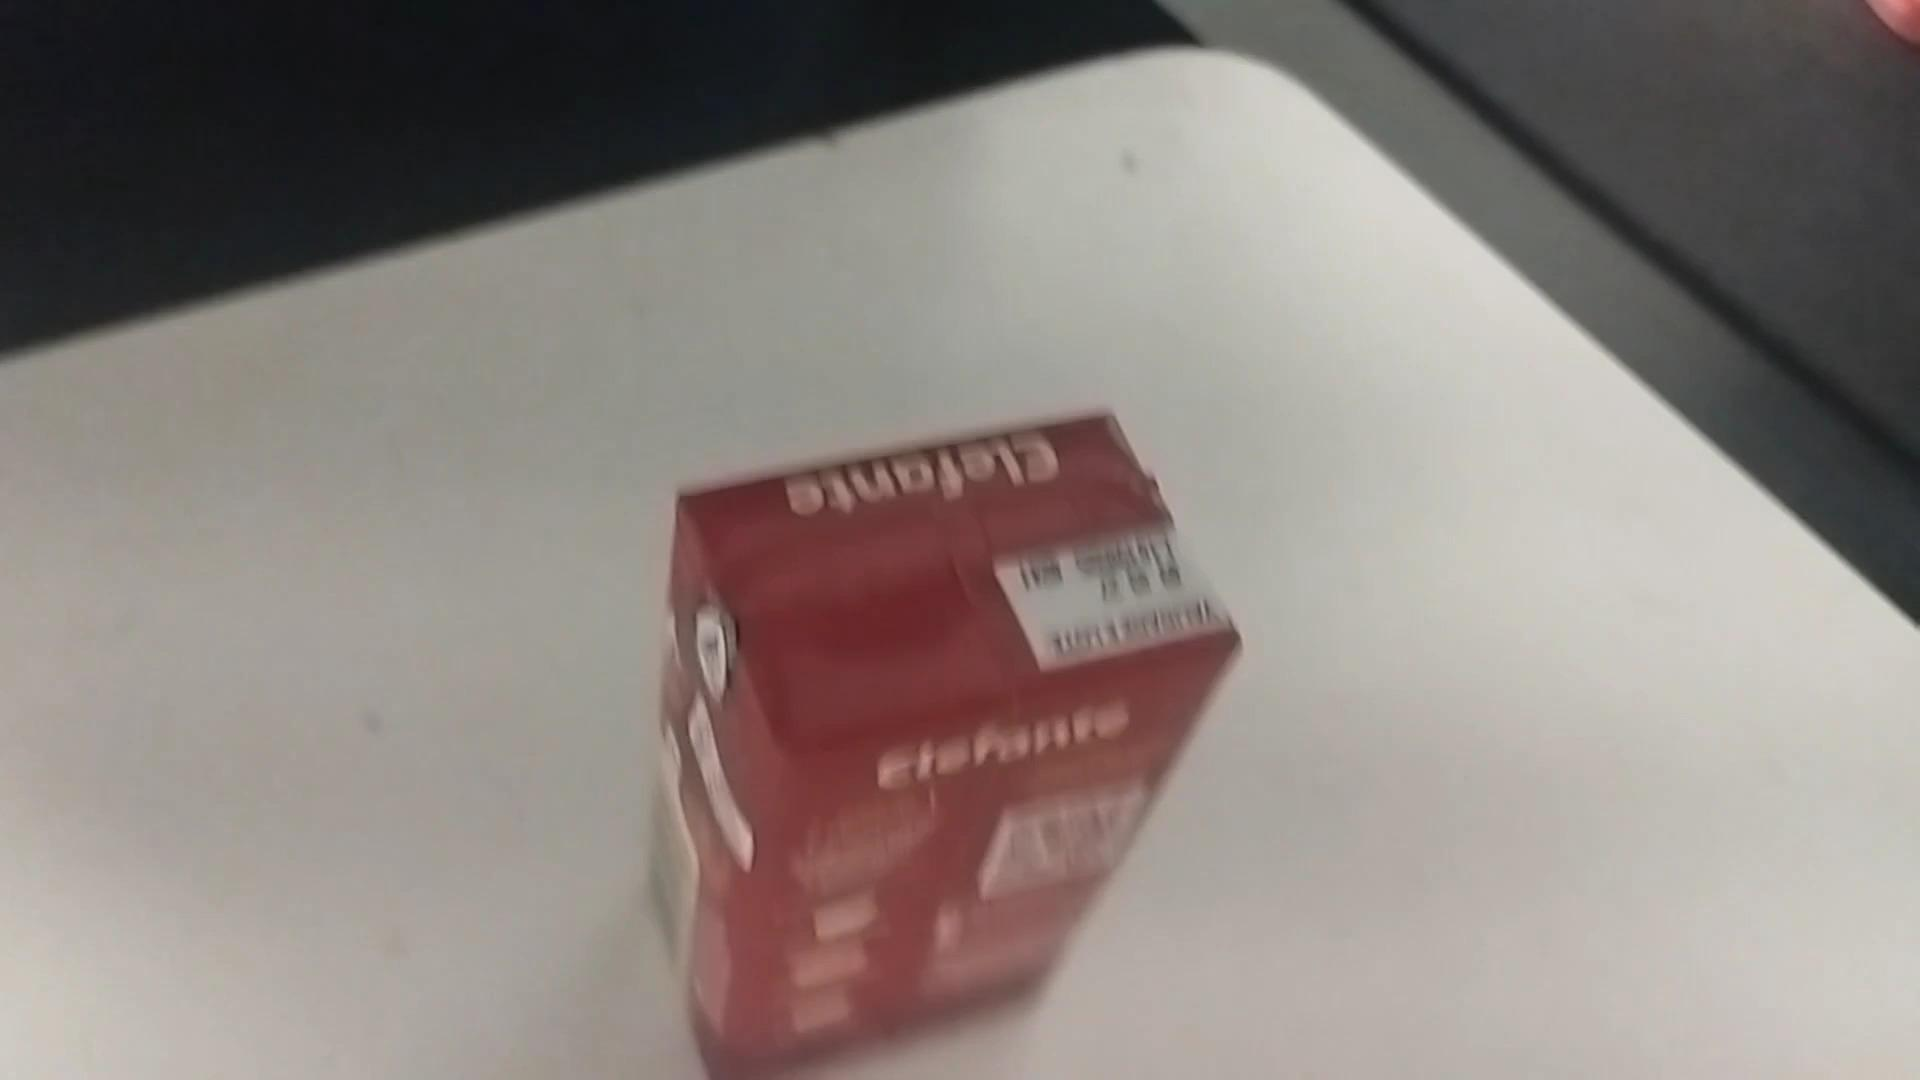tomate: (643, 397, 1271, 1078)
